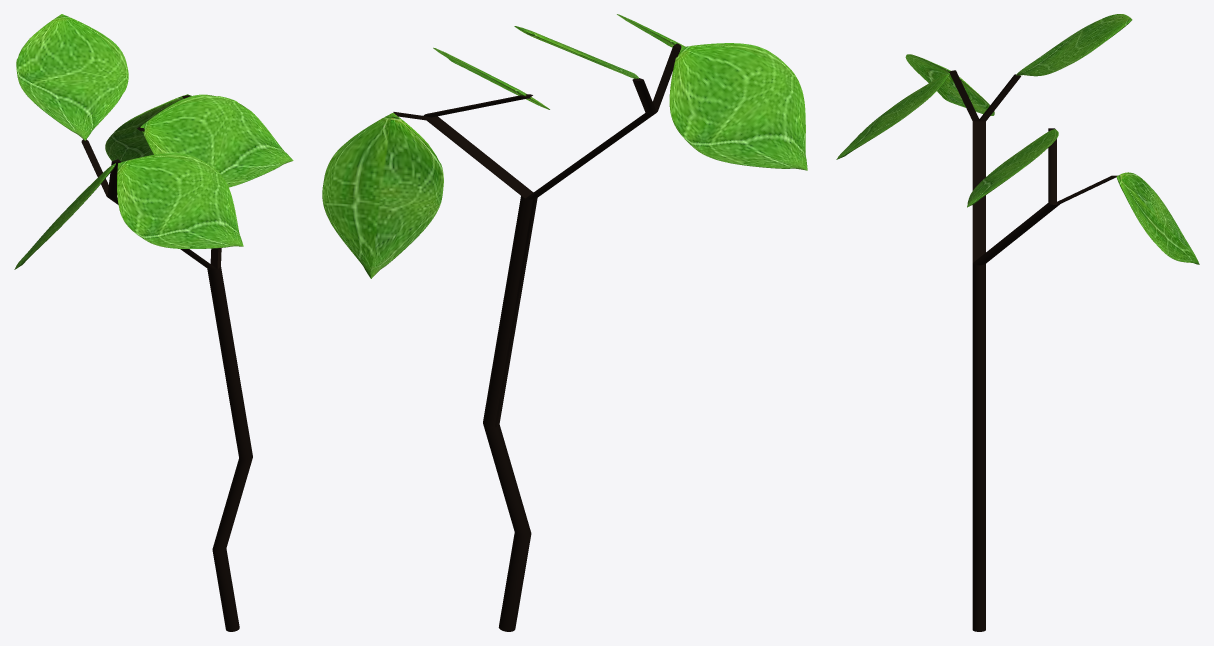
Rendered from sapling.obj.
3 views of the same model, side by side, from view 1: azimuth 30°, elevation 25°; view 2: azimuth 150°, elevation 25°; view 3: azimuth 270°, elevation 25° (orthographic). The views are drawn at different scales.
Parts seen in each view (by area): view 1: nurbsToPoly5, nurbsToPoly3, nurbsToPoly1, pCylinder1 group1, nurbsToPoly2, nurbsToPoly4; view 2: nurbsToPoly4, nurbsToPoly2, pCylinder1 group1, nurbsToPoly3, nurbsToPoly1; view 3: pCylinder1 group1, nurbsToPoly2, nurbsToPoly3, nurbsToPoly5, nurbsToPoly1, nurbsToPoly4.
Part boxes in pixels (bbox=[...]): nurbsToPoly5: bbox=[117, 153, 243, 248]; nurbsToPoly3: bbox=[16, 14, 128, 140]; nurbsToPoly1: bbox=[140, 94, 293, 187]; pCylinder1 group1: bbox=[81, 95, 252, 631]; nurbsToPoly2: bbox=[105, 94, 191, 161]; nurbsToPoly4: bbox=[14, 163, 115, 269]; nurbsToPoly4: bbox=[669, 43, 807, 170]; nurbsToPoly2: bbox=[322, 113, 443, 278]; pCylinder1 group1: bbox=[393, 43, 681, 631]; nurbsToPoly3: bbox=[514, 26, 639, 78]; nurbsToPoly1: bbox=[433, 47, 549, 109]; pCylinder1 group1: bbox=[949, 70, 1117, 631]; nurbsToPoly2: bbox=[1116, 172, 1199, 264]; nurbsToPoly3: bbox=[1016, 14, 1132, 76]; nurbsToPoly5: bbox=[836, 73, 949, 159]; nurbsToPoly1: bbox=[967, 129, 1058, 207]; nurbsToPoly4: bbox=[905, 54, 994, 115].
Size of the model in its own units: 5.9 by 10.98 by 6.38.
Materials: 2 (1 with a texture image).
